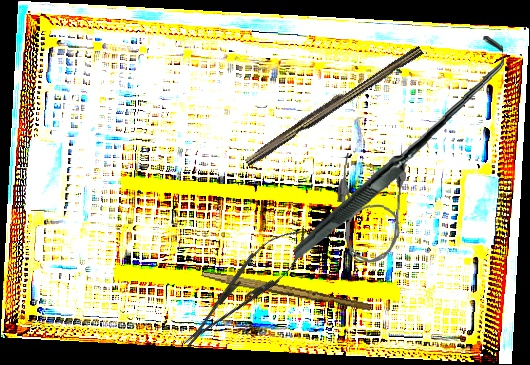Cannula: (332, 152, 408, 265)
Hook Surgical: (283, 35, 514, 259)
Needle Holder: (171, 214, 319, 360)
Scalpel Handle: (242, 40, 424, 170), (200, 270, 372, 312)
